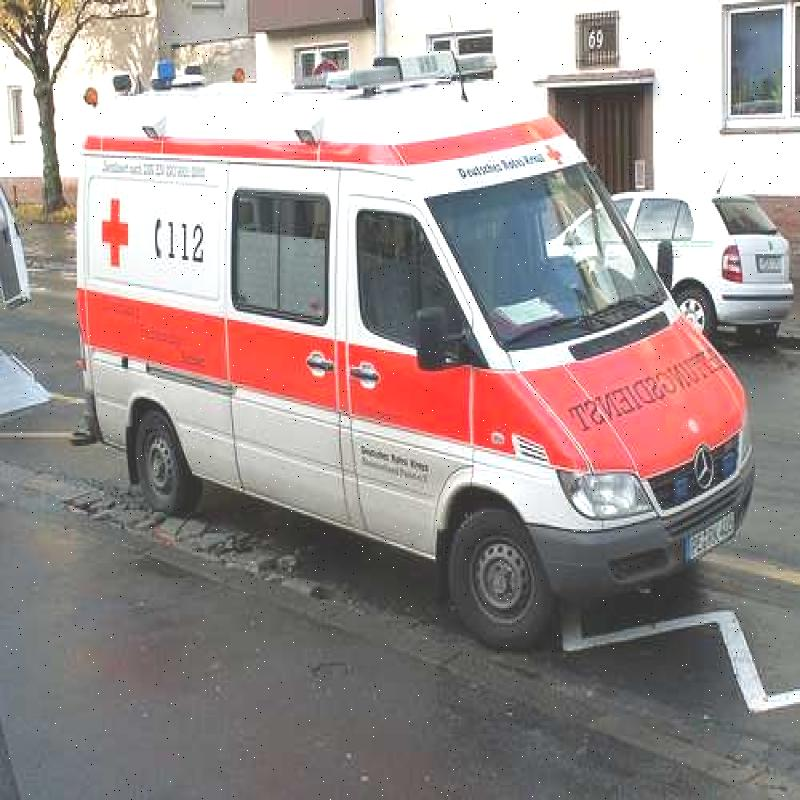AmbulanceSiren: (318, 32, 505, 96)
